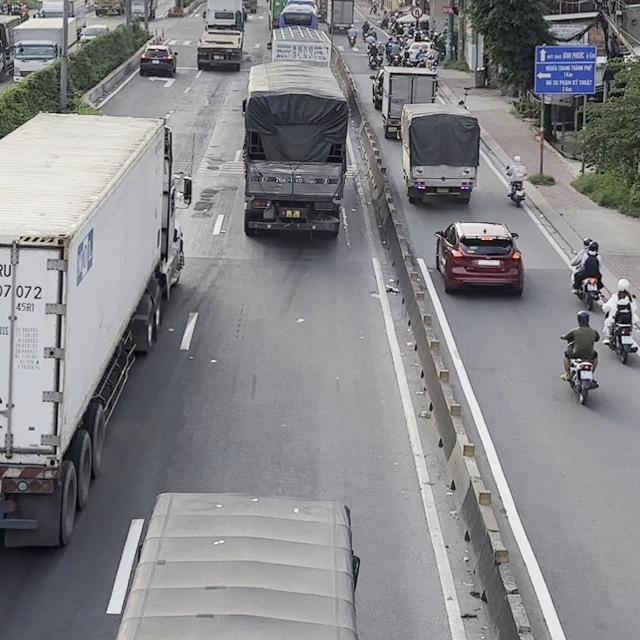car: (434, 220, 524, 296), (139, 44, 177, 76)
motorcycle: (598, 294, 639, 364), (561, 334, 599, 405), (570, 248, 603, 311), (504, 165, 526, 208), (347, 28, 359, 47), (367, 51, 378, 69)
truck: (0, 110, 194, 548), (114, 491, 361, 639), (241, 60, 349, 238), (396, 102, 480, 205), (381, 65, 438, 140), (196, 0, 247, 71), (267, 25, 332, 67), (325, 0, 355, 34)
